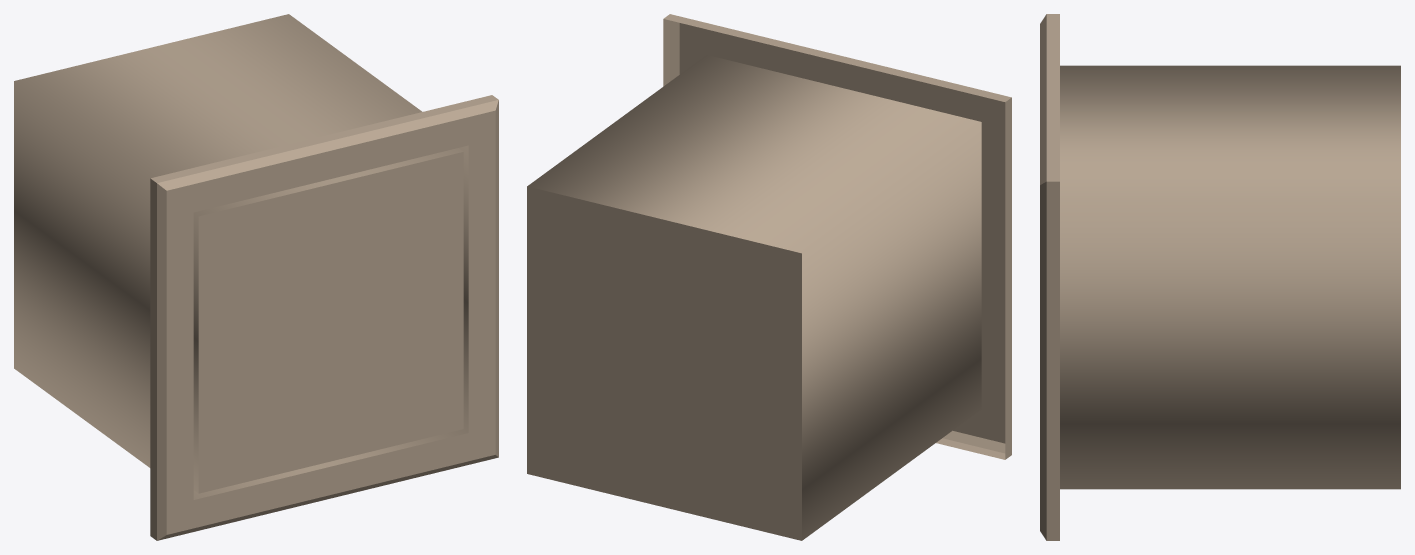
The model's file is concreteslab-withblock.fbx.
The picture shows the model from 3 angles, left to right: view 1: azimuth 30°, elevation 25°; view 2: azimuth 150°, elevation 25°; view 3: azimuth 270°, elevation 25°; orthographic projection.
Parts seen in each view (by area): view 1: Ceiling, Block; view 2: Ceiling; view 3: Ceiling.
Part boxes in pixels (x1=…): Ceiling: x1=14, y1=14, x2=498, y2=540; Block: x1=193, y1=148, x2=463, y2=493; Ceiling: x1=527, y1=14, x2=1011, y2=540; Ceiling: x1=1040, y1=14, x2=1400, y2=540.
Bounding box in the file's own units: 250 × 250 × 228.
